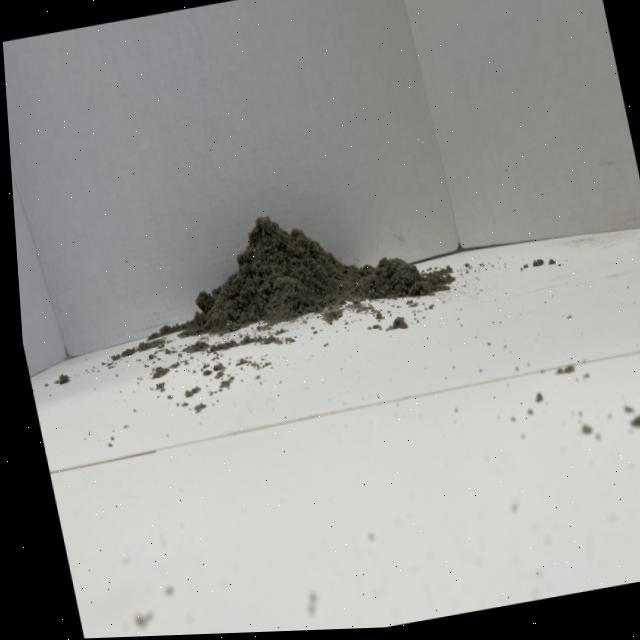sand: (171, 181, 428, 362)
